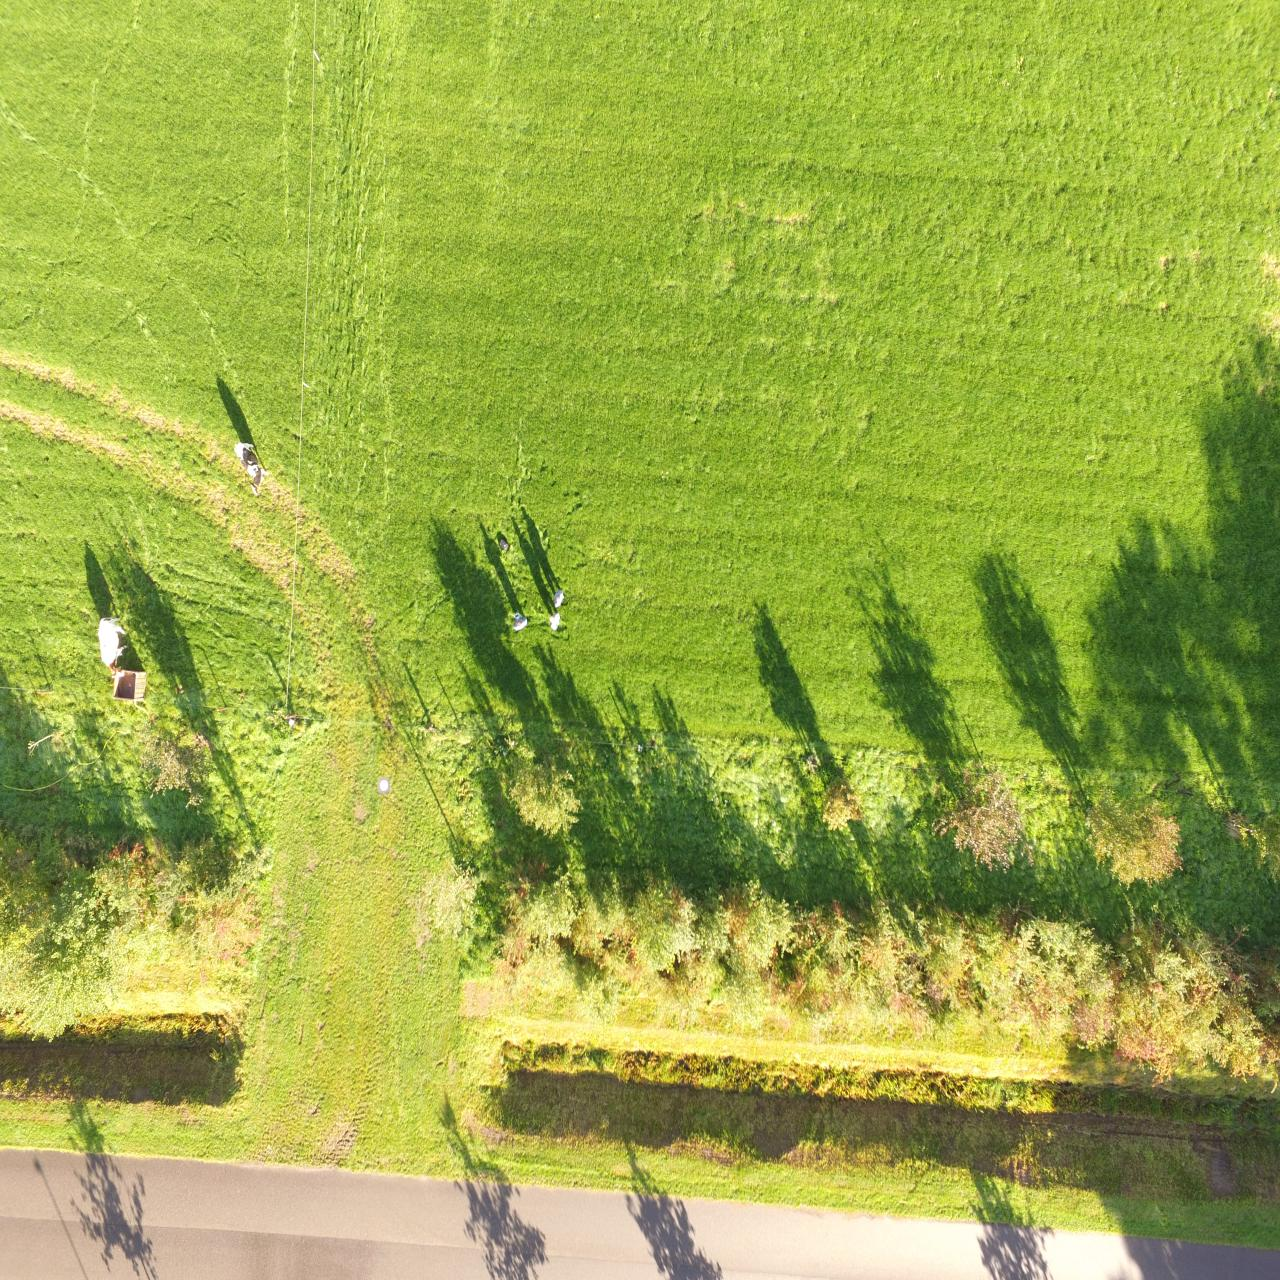cow: (232, 441, 270, 496), (96, 617, 128, 678)
